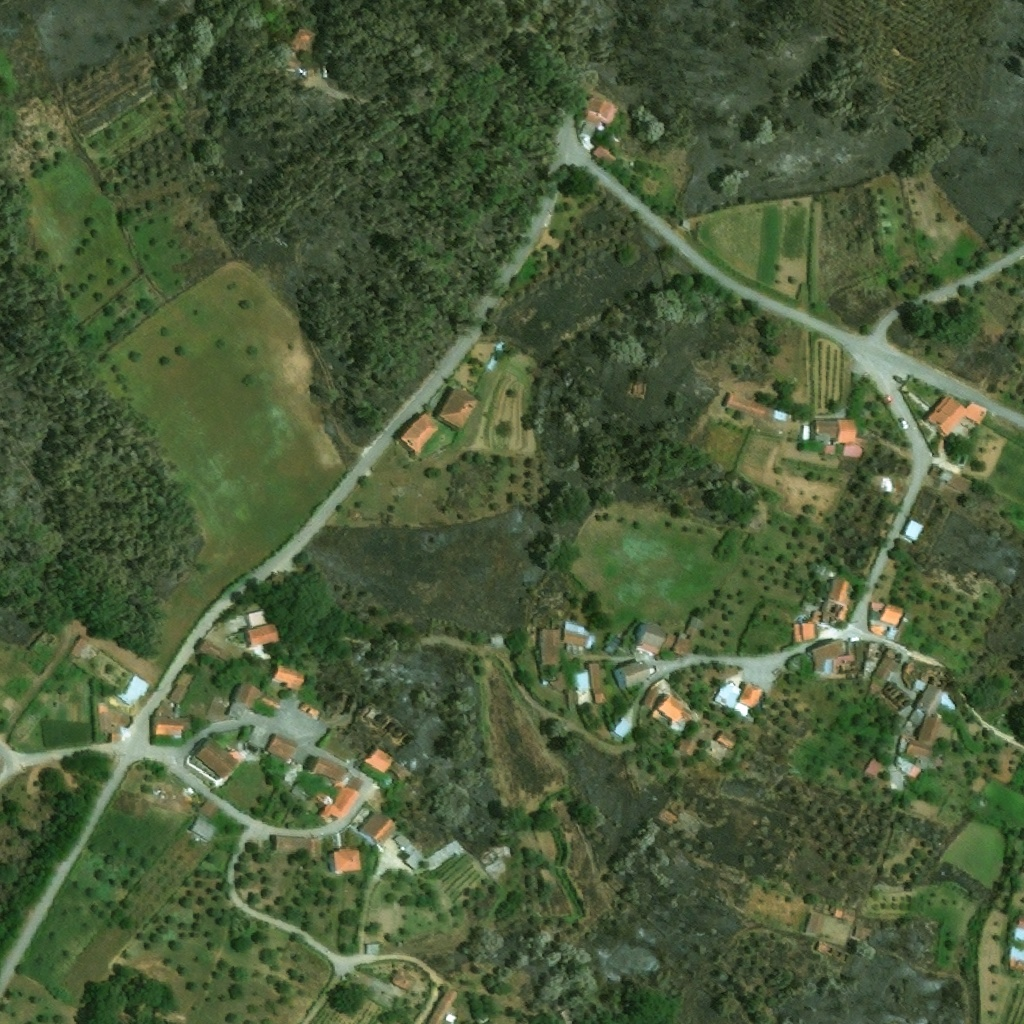0 no-damage: (393, 833, 464, 874), (924, 395, 989, 434), (714, 678, 769, 720), (319, 777, 365, 820), (651, 695, 696, 735), (196, 739, 238, 779), (440, 387, 479, 428), (813, 639, 854, 677), (400, 413, 440, 451), (97, 700, 132, 743), (154, 700, 191, 738), (727, 393, 775, 421), (225, 682, 260, 719), (361, 811, 398, 845), (195, 636, 235, 667), (118, 675, 153, 709), (320, 730, 355, 763), (427, 988, 458, 1023), (483, 337, 509, 375), (313, 755, 350, 781), (621, 661, 658, 687), (266, 734, 299, 763), (585, 96, 619, 124), (540, 621, 561, 665), (272, 665, 307, 690), (828, 576, 854, 608), (589, 662, 608, 704), (564, 621, 595, 646), (876, 648, 901, 679), (246, 624, 278, 648), (642, 623, 666, 655), (366, 748, 395, 773), (917, 683, 942, 712), (893, 612, 916, 643), (334, 848, 362, 873), (275, 835, 316, 852), (190, 818, 218, 842), (895, 755, 922, 779), (292, 28, 317, 53), (815, 418, 839, 444), (575, 670, 592, 706), (929, 463, 955, 485), (391, 970, 418, 991), (900, 519, 924, 542), (880, 603, 905, 625), (909, 737, 936, 757), (247, 727, 271, 749), (844, 437, 868, 459), (919, 716, 939, 742), (198, 800, 221, 822), (684, 616, 704, 641), (68, 635, 89, 658), (169, 681, 189, 704), (793, 621, 816, 641), (592, 146, 615, 166), (602, 633, 622, 655), (614, 716, 634, 738), (804, 913, 824, 935), (950, 473, 972, 493), (838, 419, 857, 442), (671, 633, 690, 655), (864, 758, 886, 777), (312, 788, 333, 806), (260, 693, 282, 710), (643, 688, 660, 710), (282, 56, 303, 73), (246, 610, 265, 628), (852, 926, 873, 942), (799, 418, 814, 440), (391, 761, 409, 779), (718, 730, 736, 748), (580, 120, 598, 138), (80, 642, 98, 660), (293, 748, 310, 766), (868, 641, 885, 659), (909, 708, 925, 725), (869, 679, 885, 693), (772, 408, 789, 421), (844, 908, 858, 922), (365, 943, 381, 955), (810, 608, 823, 622), (489, 636, 505, 647), (679, 219, 692, 232), (884, 625, 897, 638), (916, 754, 929, 767), (307, 708, 321, 720), (664, 634, 676, 648), (382, 775, 395, 787), (870, 600, 884, 611), (916, 678, 927, 692), (297, 701, 309, 713), (835, 905, 847, 917), (445, 1013, 458, 1023), (871, 626, 884, 635), (900, 735, 907, 750), (825, 445, 836, 454), (424, 408, 433, 417), (341, 846, 352, 851)
1 minor-damage: (663, 802, 687, 824)
2 major-damage: (880, 683, 915, 712), (821, 600, 846, 625), (922, 665, 949, 687), (633, 382, 645, 395)
3 destroyed: (361, 703, 413, 741), (815, 940, 850, 964), (481, 849, 503, 868), (34, 630, 56, 645), (611, 136, 629, 152), (973, 797, 987, 812), (885, 800, 893, 807), (504, 848, 510, 857)
4 un-classified: (267, 570, 289, 592), (1008, 945, 1023, 971), (1011, 913, 1023, 939), (540, 1006, 547, 1014)
